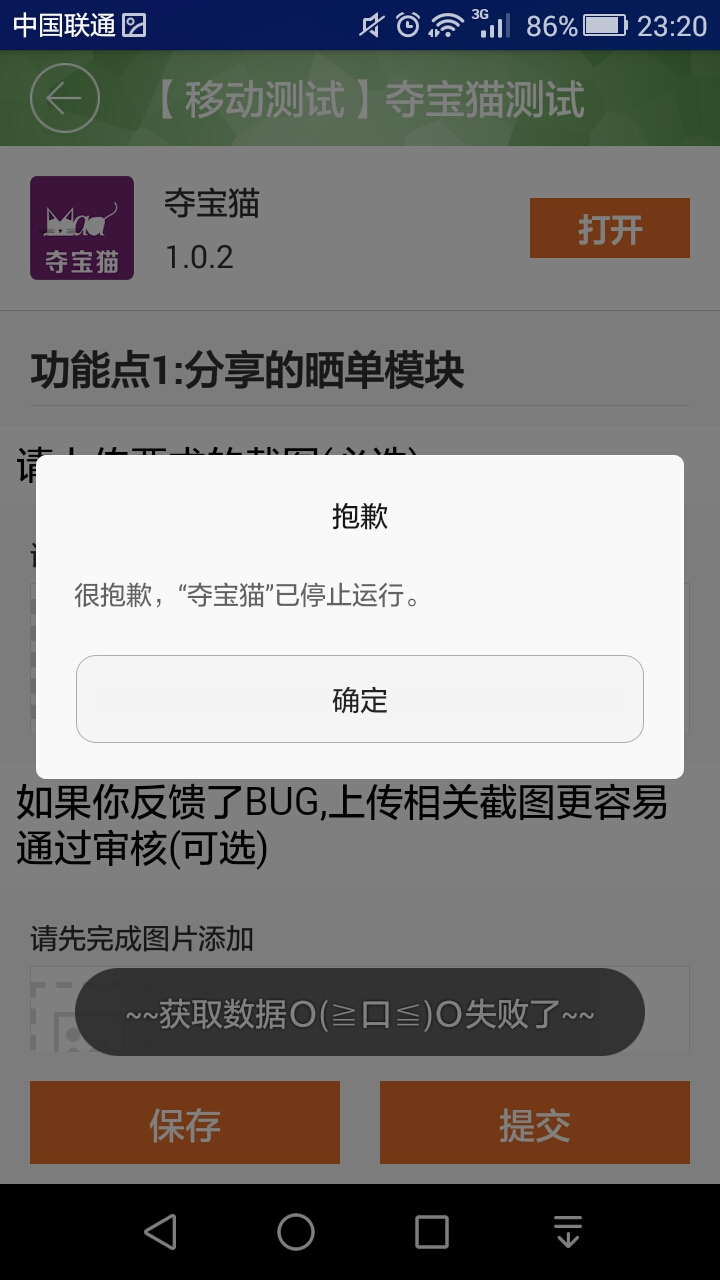alert: (26, 448, 707, 798), (74, 964, 681, 1060)
button: (371, 1070, 701, 1171), (21, 1073, 354, 1167), (515, 184, 715, 273)
imgbutton: (19, 59, 110, 141)
textview: (129, 56, 720, 163)
